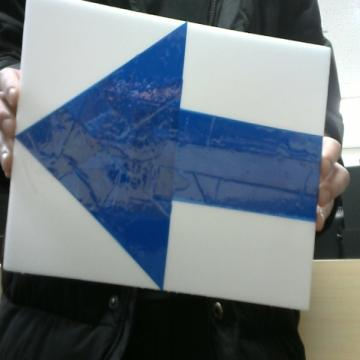blue_left: (17, 24, 322, 289)
